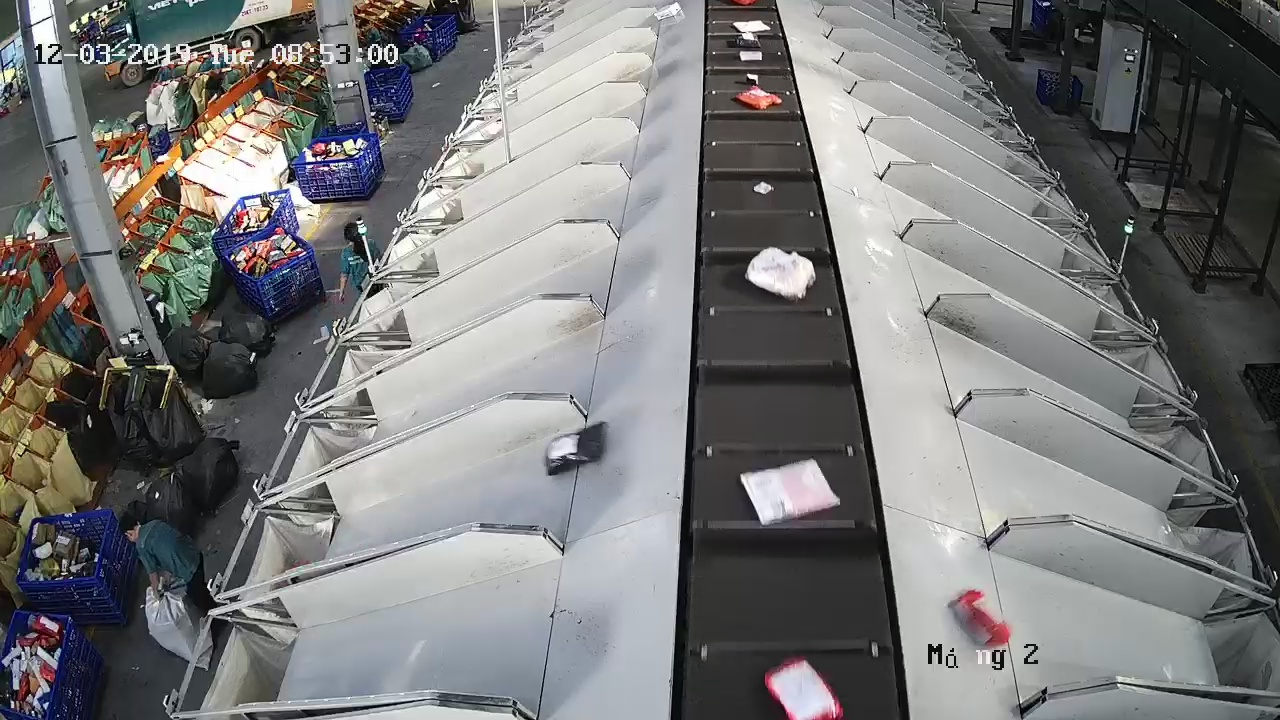parcel: (947, 587, 1013, 649), (543, 420, 608, 477)
